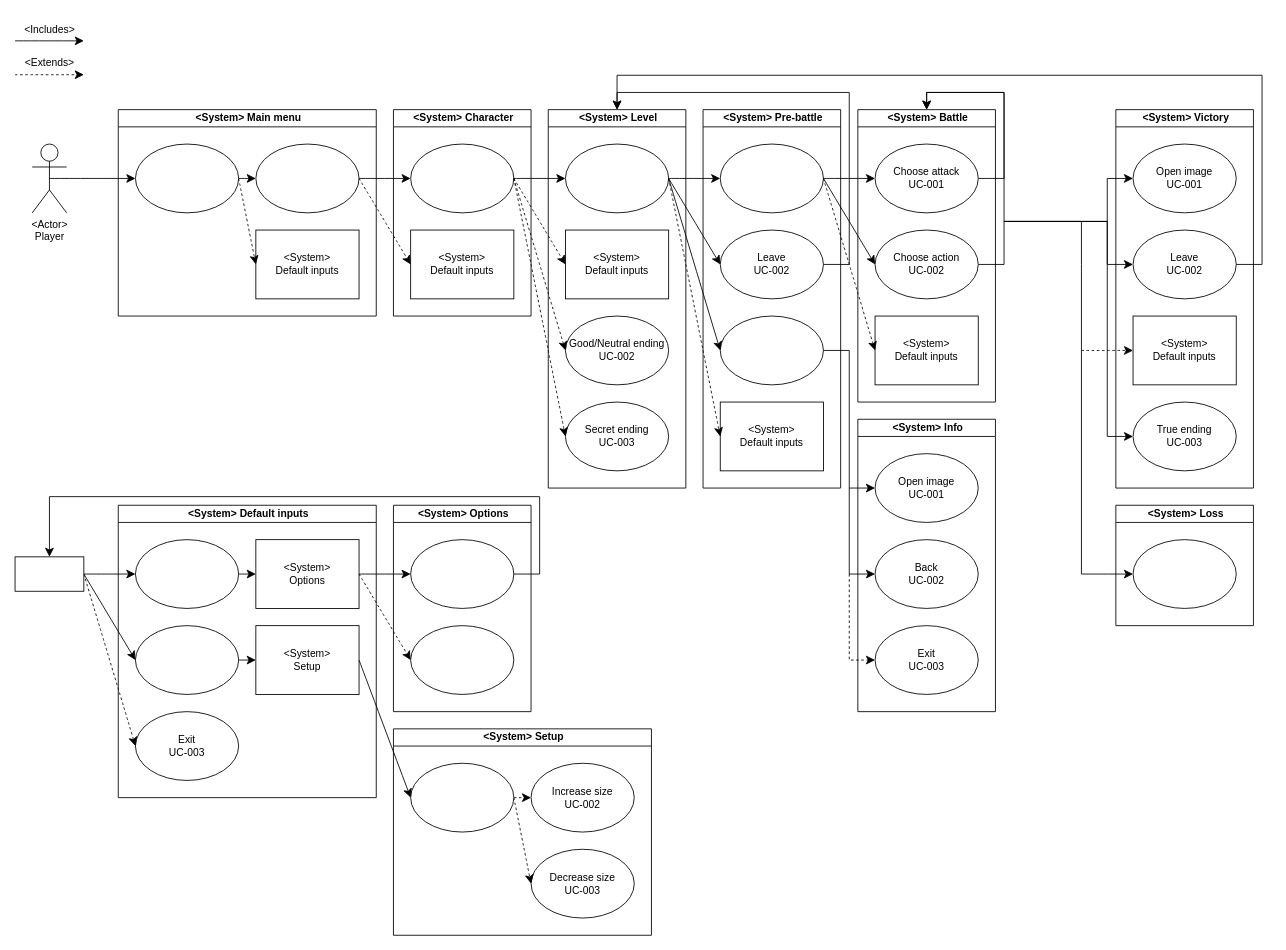
Some shapes in this 1286 by 950 pixel diagram are drawn without their labels. Here are the shapes that lost their labels. From the top down, the centre of each, then its label:
At [187,178]: "Input correct pasword UC-001".
At [307,178]: "Start new game UC-002".
At [462,178]: "Choose character UC-001".
At [617,178]: "Choose level UC-001".
At [771,178]: "Fight UC-001".
At [771,350]: "Info UC-003".
At [49,573]: "Entry point".
At [187,573]: "Options UC-001".
At [462,573]: "Back UC-001".
At [1184,573]: "Bad ending UC-001".
At [187,659]: "Setup UC-002".
At [462,659]: "Exit UC-002".
At [462,797]: "Confirm size UC-001".
